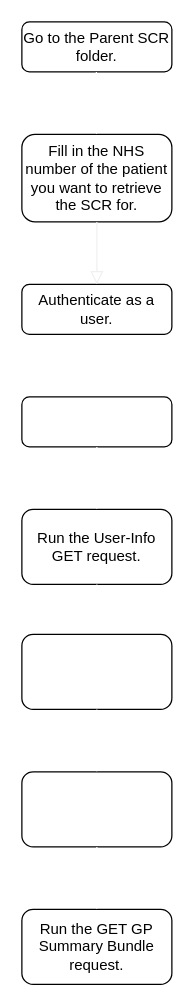
Image size: 194x1006. Some labels were removed from this diagram. The centre of each missing label's shape, as x and y in pixels:
Go the the bundle-round-trip folder.: point 96,671
Go to the admin folder.: point 96,421
Run the GET Document Reference request.: point 96,809
